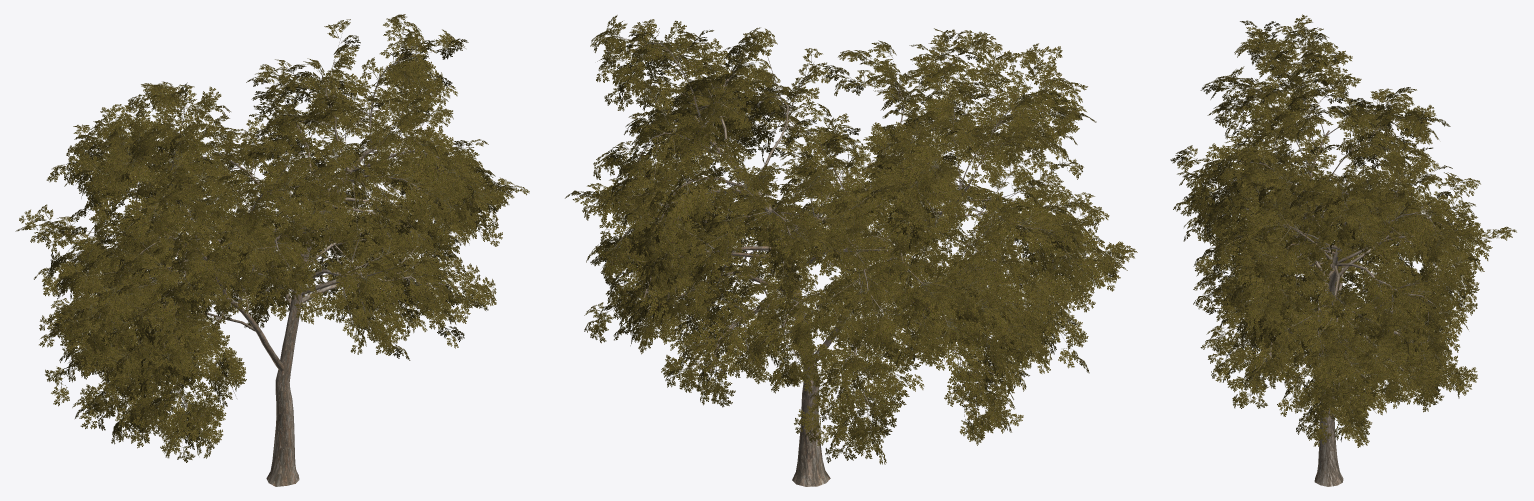
The model's file is SM_Tree2.fbx.
3 renders of one model, left to right at view 1: azimuth 30°, elevation 25°; view 2: azimuth 150°, elevation 25°; view 3: azimuth 270°, elevation 25°, orthographic. The views are drawn at different scales.
Visible parts, largest first — view 1: SM_Tree2_LOD0; view 2: SM_Tree2_LOD0; view 3: SM_Tree2_LOD0.
Boxes of the visible parts, left/top/right/bottom form: SM_Tree2_LOD0: left=15, top=14, right=529, bottom=486; SM_Tree2_LOD0: left=565, top=15, right=1137, bottom=486; SM_Tree2_LOD0: left=1170, top=14, right=1516, bottom=486.
Bounding box in the file's own units: 979 × 694 × 868.
